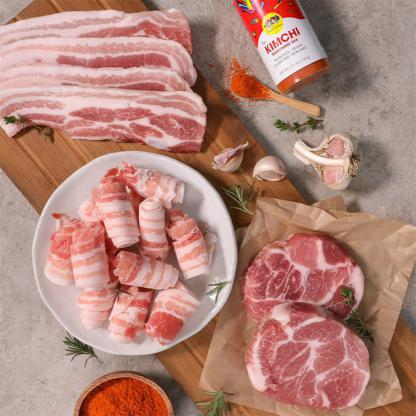pork: (0, 6, 205, 150), (65, 164, 203, 336), (242, 232, 372, 413)
